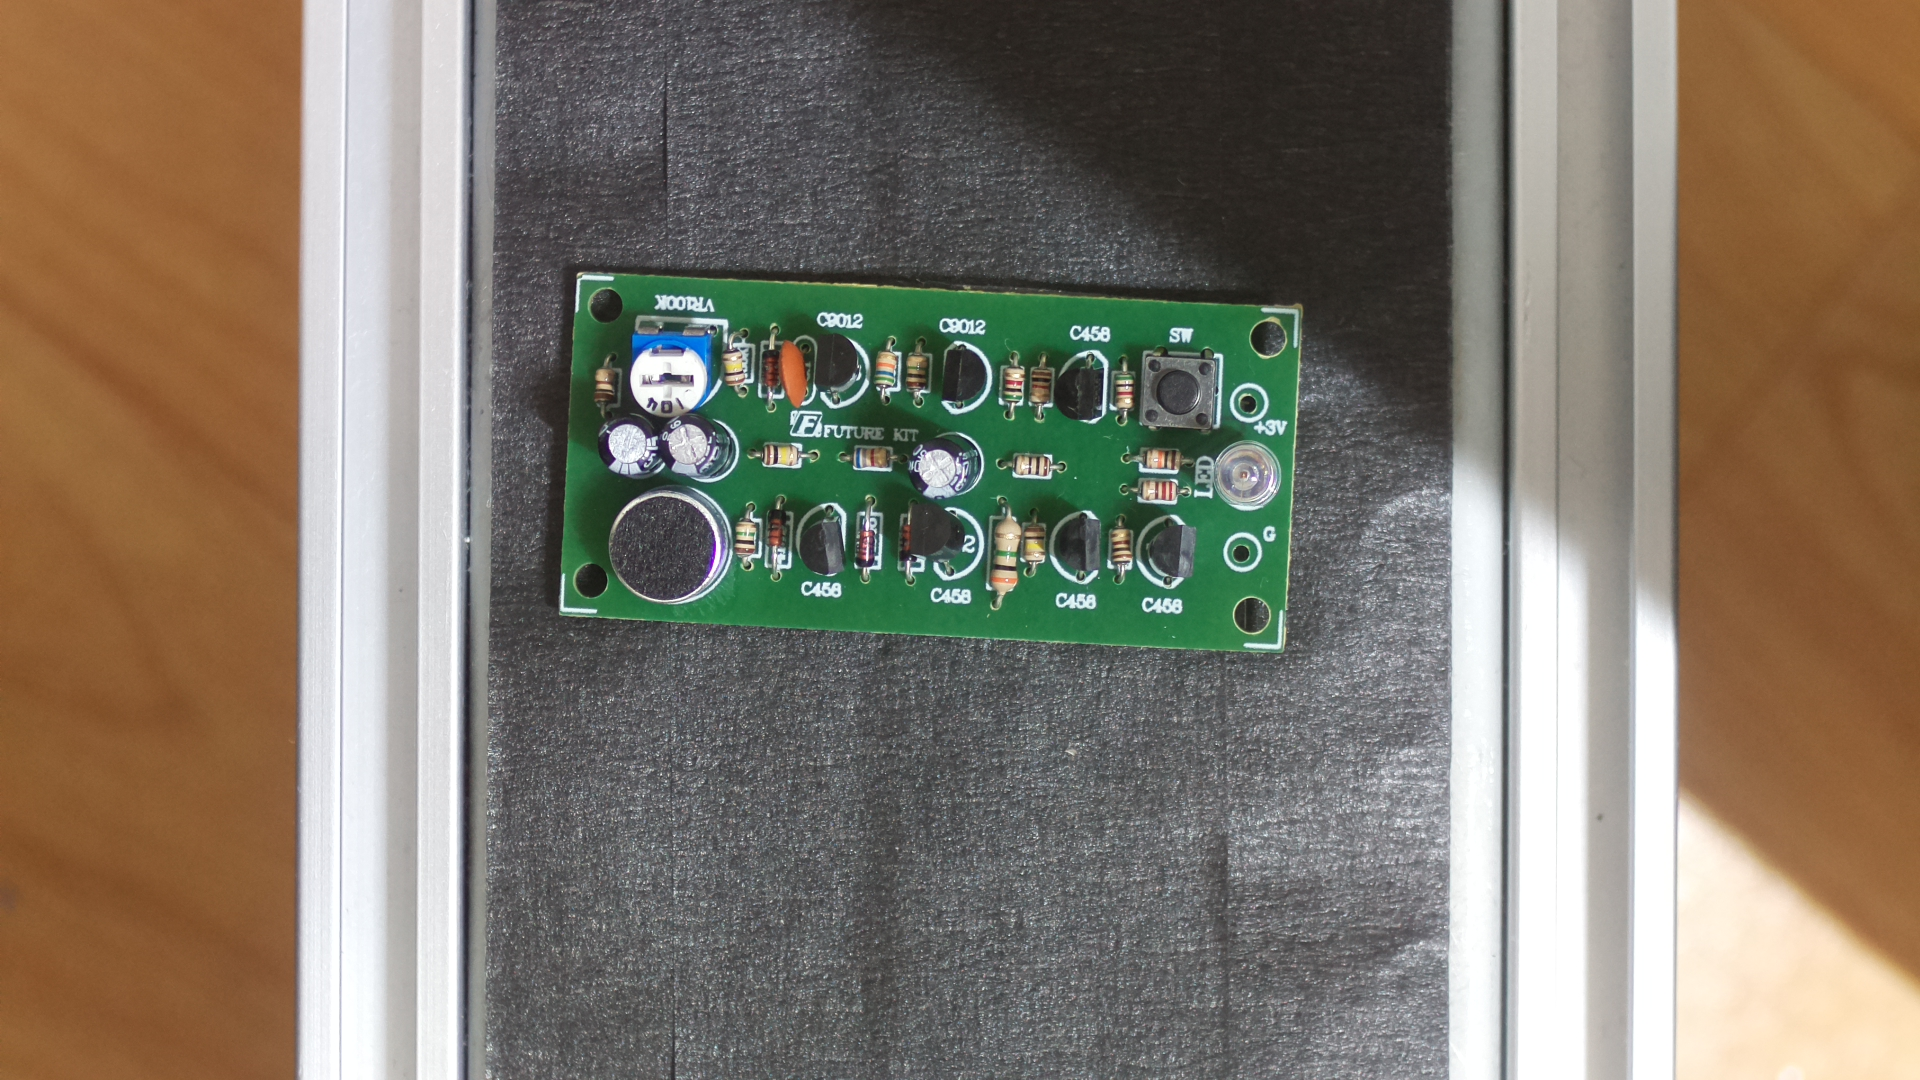A_Normal: (555, 258, 1309, 670)
